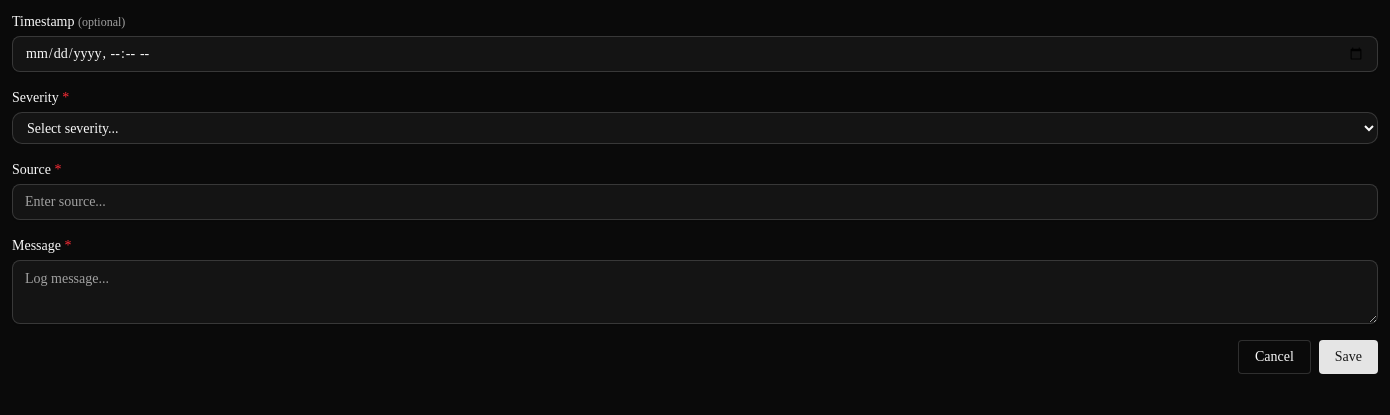
Test: LogForm › shows_message_error_and_does_not_call_onSubmit_when_message_is_empty
This screenshot has width=1390, height=415.
Select "WARNING" in the dropdown with test id "log-form-severity" at (695, 128), box [12,112,1378,144]
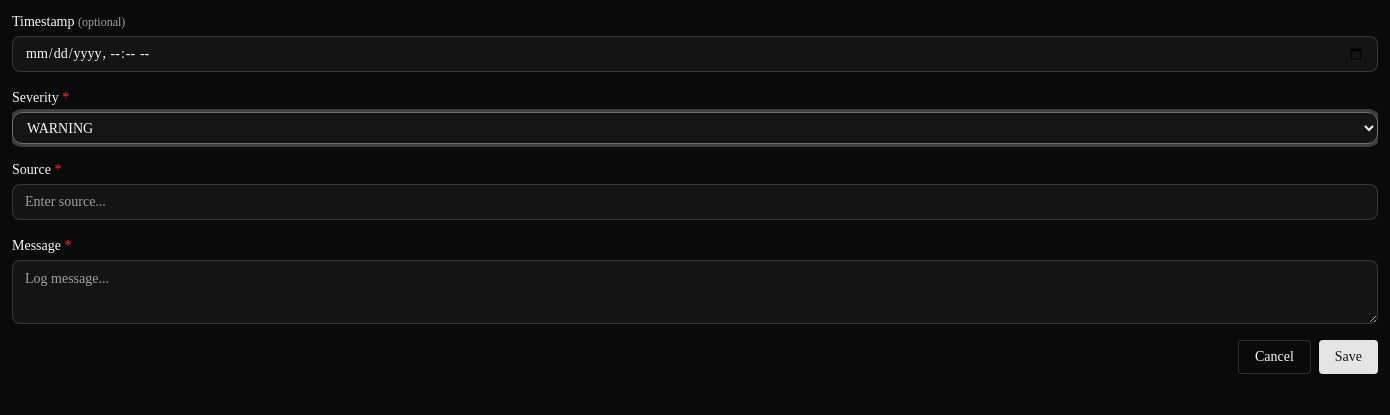
Type "api-gateway" into the field with test id "log-form-source".
click(695, 202); type("api-gateway")  # box [12,184,1378,220]
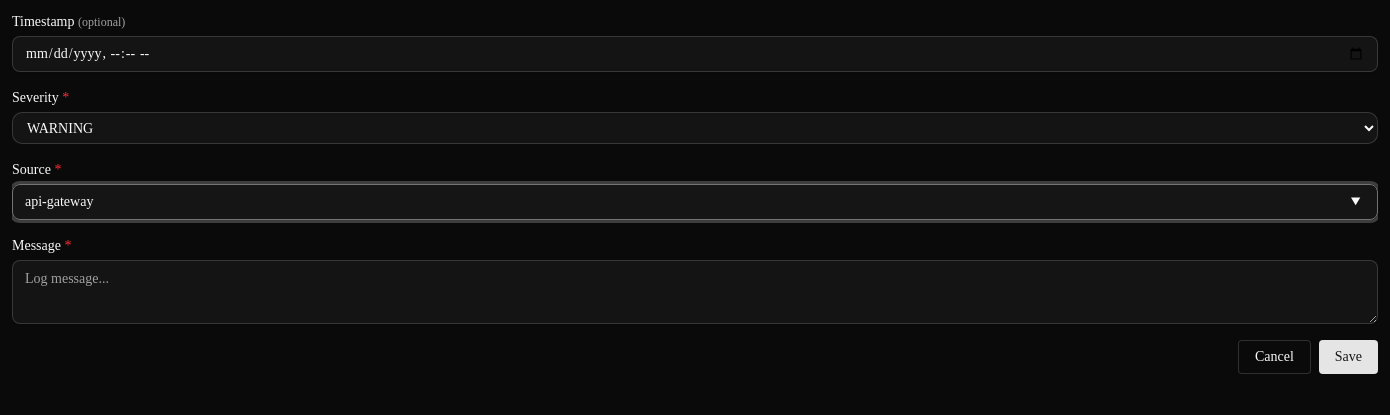
Click the button with test id "log-form-submit".
click(1348, 357)  # box [1319,340,1378,374]
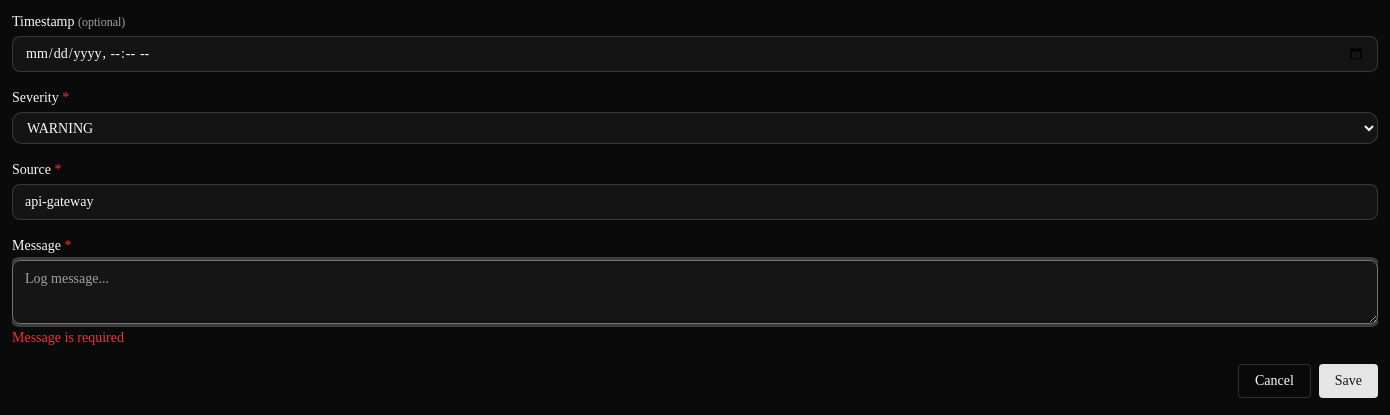
Expected: the text with test id "log-form-message-error" reads "Message is required", [12,330,124,345]
